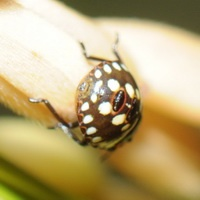insect: (0, 34, 141, 149), (28, 34, 141, 149)
